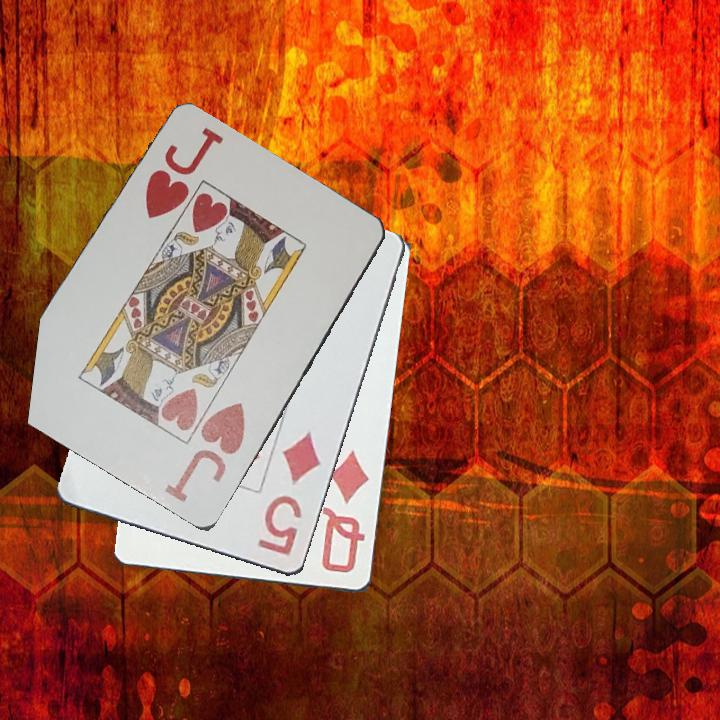5d: (254, 429, 324, 560)
Jh: (161, 398, 249, 506), (141, 124, 223, 224)
Qd: (318, 448, 372, 577)
